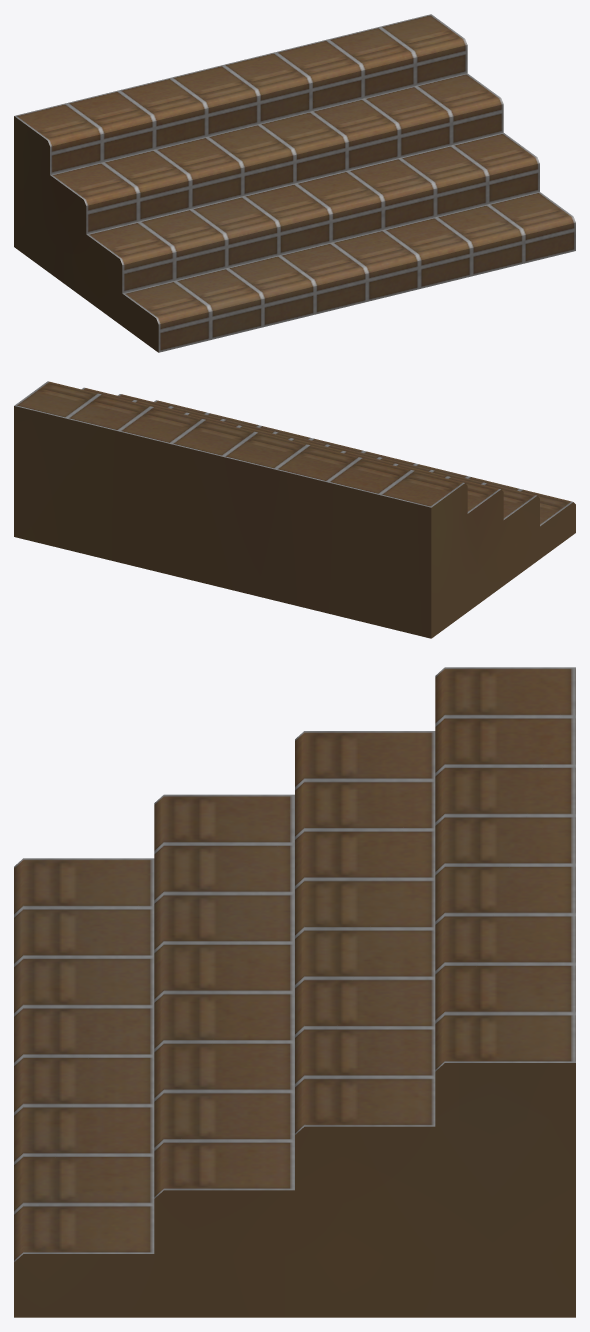
The model's file is set_floor_02b_02_stairs.fbx.
3 renders of one model, top to bottom at view 1: azimuth 30°, elevation 25°; view 2: azimuth 150°, elevation 25°; view 3: azimuth 270°, elevation 25°, orthographic. The views are drawn at different scales.
Visible parts, largest first — view 1: set_floor_02b_02_stairs; view 2: set_floor_02b_02_stairs; view 3: set_floor_02b_02_stairs.
Boxes of the visible parts, x1,y1,x2,y2 form: set_floor_02b_02_stairs: [14, 14, 575, 352]; set_floor_02b_02_stairs: [14, 381, 575, 638]; set_floor_02b_02_stairs: [14, 667, 575, 1317].
Size of the model in its own units: 200 by 60 by 120.
